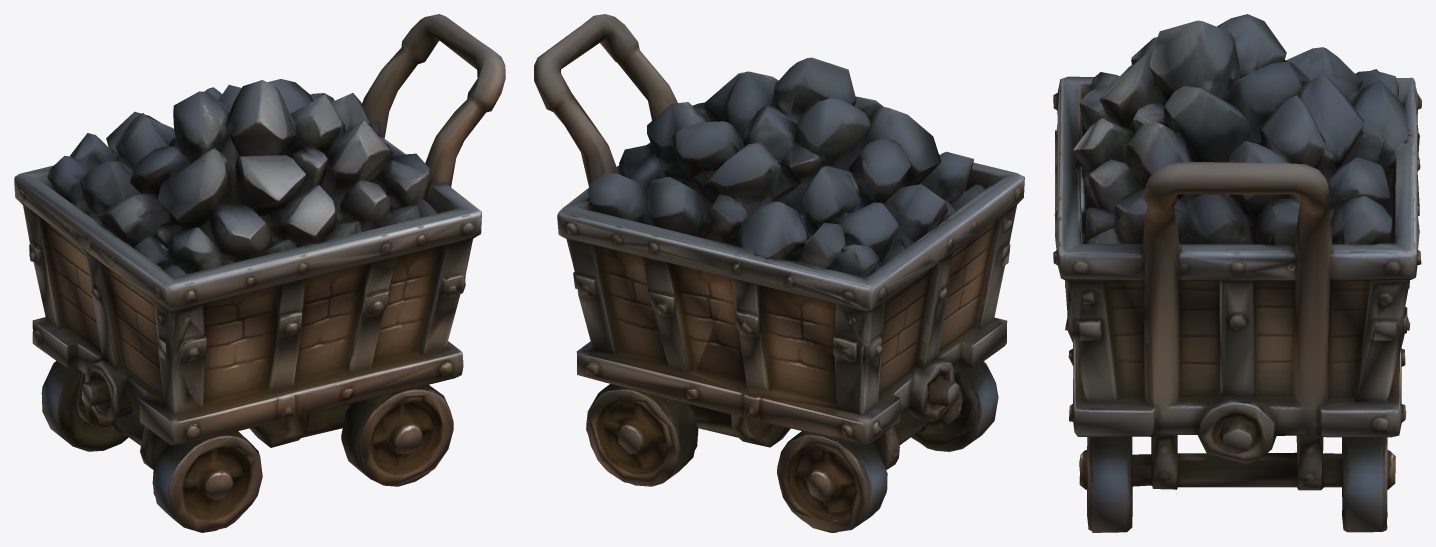
The model's file is MineCart.opt.glb.
3 renders of one model, left to right at view 1: azimuth 30°, elevation 25°; view 2: azimuth 150°, elevation 25°; view 3: azimuth 270°, elevation 25°, orthographic. The views are drawn at different scales.
Visible parts, largest first — view 1: node_0; view 2: node_0; view 3: node_0.
Part boxes in pixels (x1,y1,x2,y2): node_0: (14, 14, 505, 532); node_0: (534, 14, 1024, 532); node_0: (1053, 14, 1421, 532).
Bounding box in the file's own units: 0.8895 × 0.8569 × 0.6327.
Materials: 1 (1 with a texture image).
